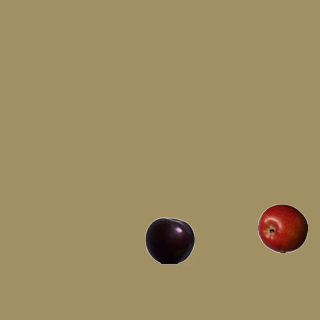Apple Braeburn: (257, 203, 307, 253)
Cherry Wax Black: (144, 215, 194, 265)
